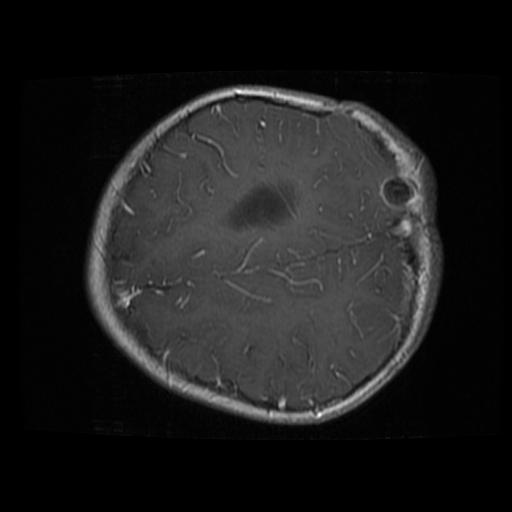glioma: (220, 181, 305, 237)
